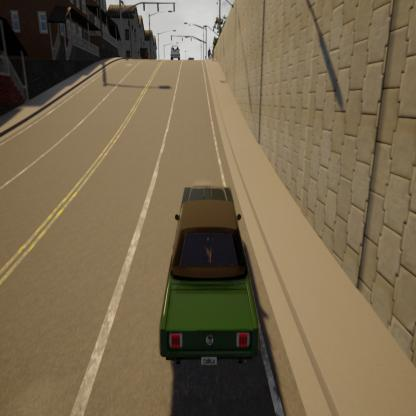Cars: (155, 173, 268, 381), (170, 43, 181, 62)
